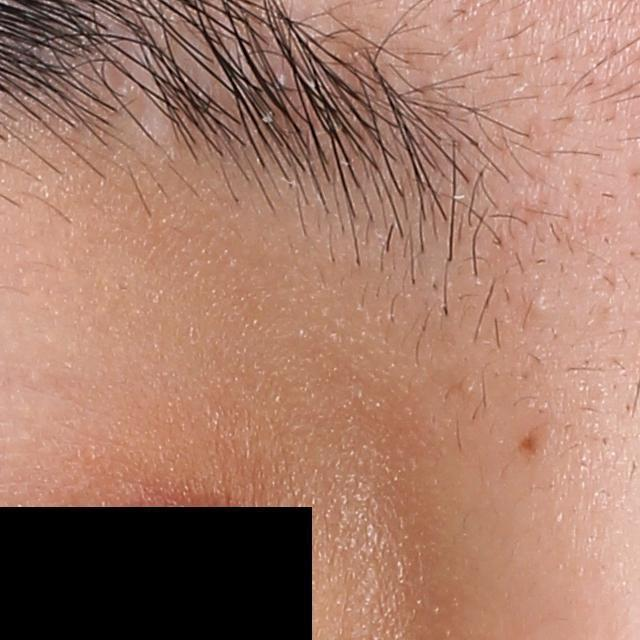comedo: (527, 291, 552, 315), (456, 377, 479, 398)
